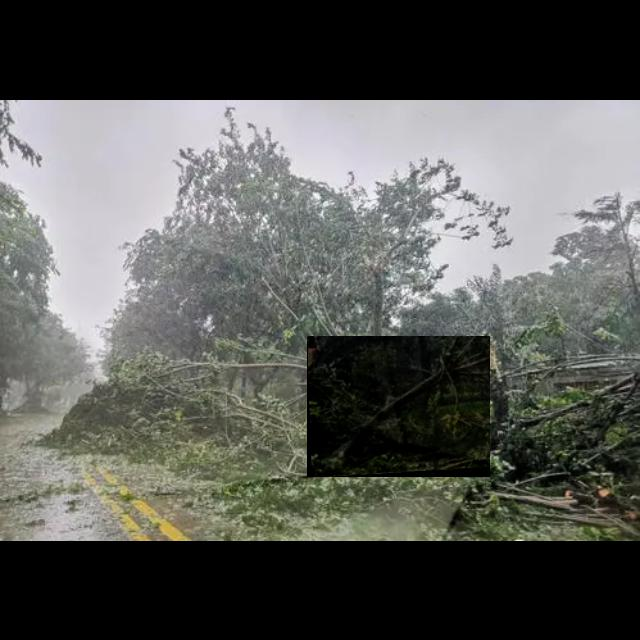Fallen Tree: (307, 336, 491, 478)
